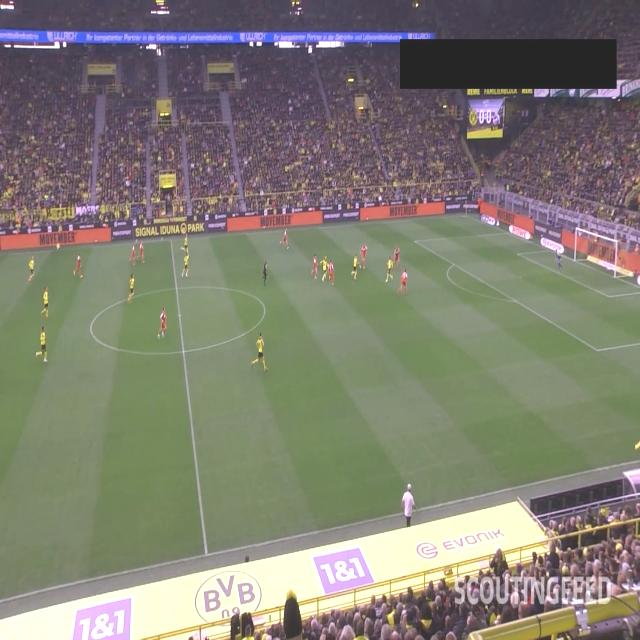ball: (363, 266, 365, 270)
f_player: (251, 332, 267, 374), (34, 326, 49, 364), (156, 307, 168, 340), (40, 284, 50, 320), (126, 272, 136, 304), (358, 242, 368, 272), (398, 268, 408, 296), (384, 256, 394, 284), (350, 252, 360, 280), (73, 252, 83, 279), (181, 250, 190, 278), (27, 254, 36, 282), (279, 227, 289, 250), (180, 232, 190, 255), (311, 253, 319, 280), (320, 255, 328, 282), (328, 260, 336, 286), (128, 241, 136, 266), (137, 240, 145, 264), (393, 246, 401, 268), (555, 251, 563, 271)
umpire: (261, 260, 269, 288)
